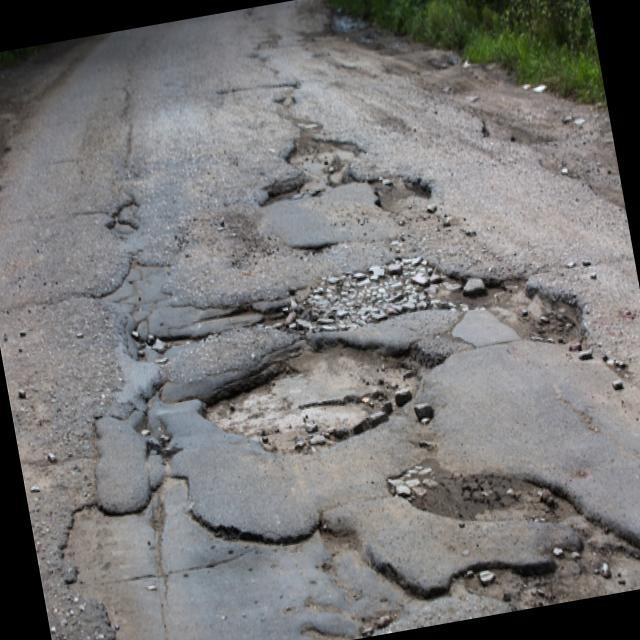Pothole: (192, 329, 444, 466), (379, 418, 583, 562), (459, 492, 640, 617), (480, 255, 602, 371), (255, 110, 371, 208), (122, 309, 200, 372), (369, 165, 441, 224), (265, 82, 303, 113)
